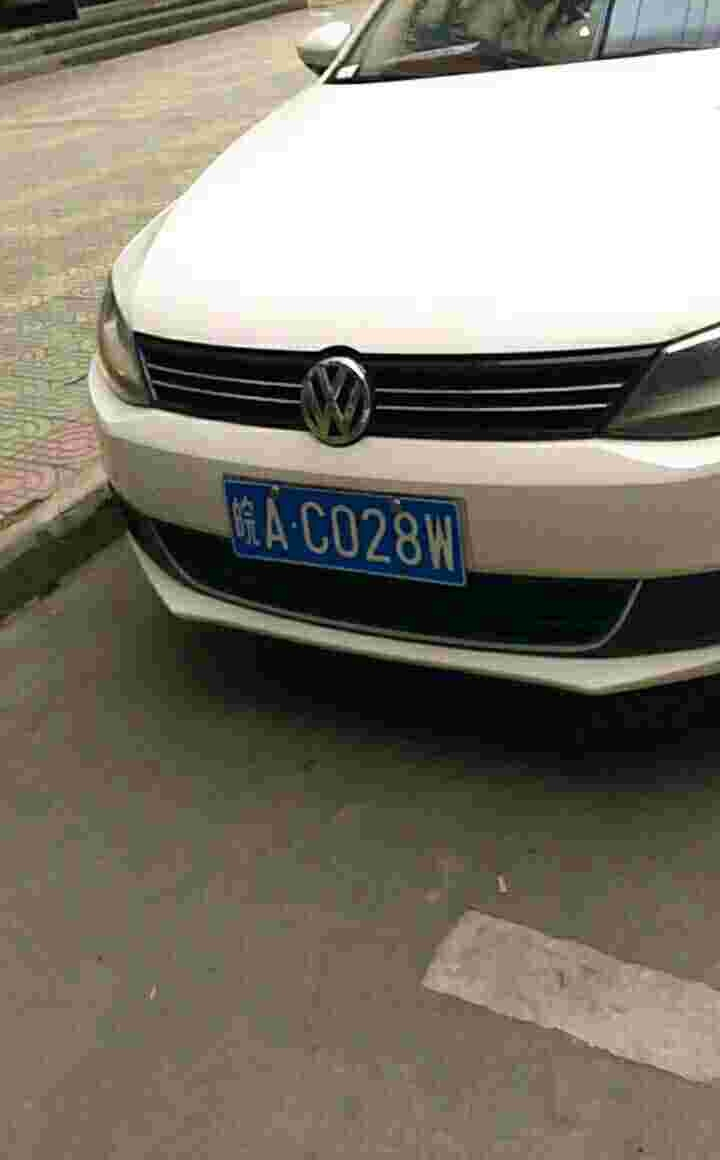license_plate: (230, 483, 456, 592)
